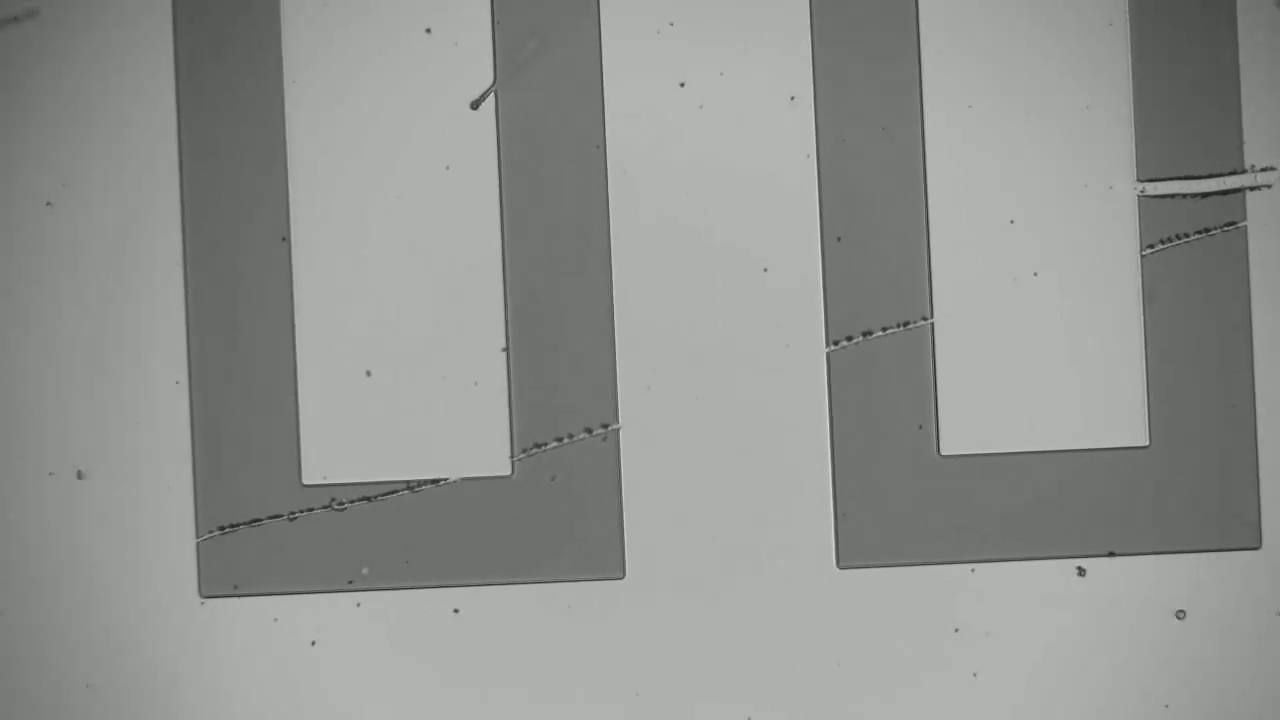Short_circuit: (1109, 150, 1270, 209)
scratch: (210, 488, 427, 530), (524, 412, 610, 458), (1149, 214, 1247, 253), (838, 310, 926, 345)
